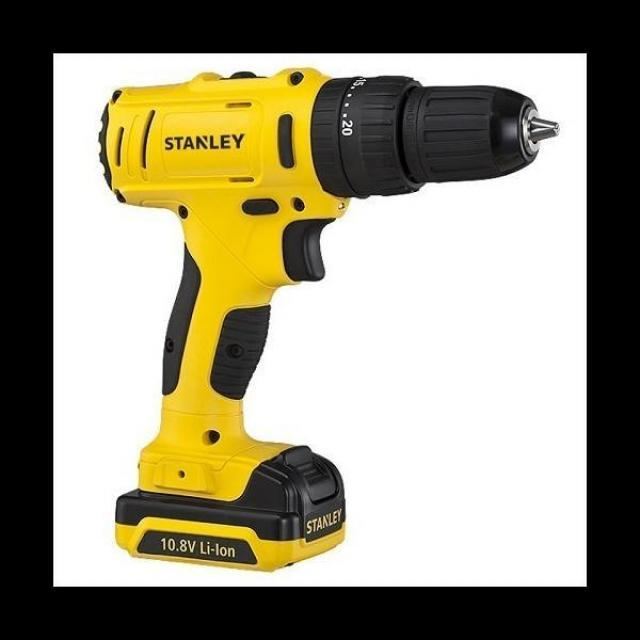drill: (98, 67, 561, 574)
